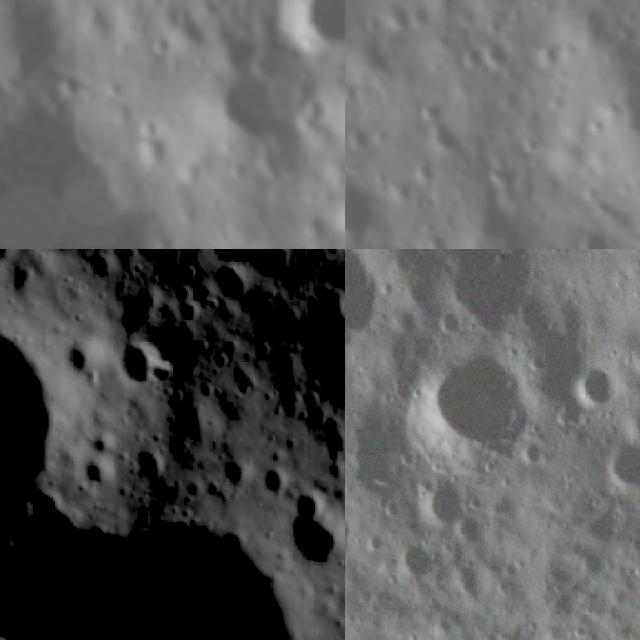crater: (0, 48, 277, 249), (0, 280, 174, 571), (0, 536, 304, 640), (181, 48, 325, 192), (426, 350, 528, 460), (439, 249, 543, 332), (268, 0, 345, 77), (345, 249, 391, 354), (418, 477, 478, 538), (291, 513, 345, 574), (317, 59, 345, 165), (112, 339, 166, 392), (59, 331, 113, 383), (120, 249, 194, 284), (576, 361, 616, 414), (600, 439, 640, 490), (399, 542, 441, 590), (206, 454, 252, 497), (210, 262, 252, 308), (77, 452, 119, 498), (258, 466, 298, 503), (253, 249, 296, 283), (132, 440, 170, 478), (84, 426, 122, 462), (345, 492, 360, 575)
